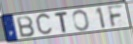1: (95, 7, 107, 30)
B: (16, 15, 36, 39)
C: (35, 12, 54, 38)
F: (107, 4, 125, 29)
O: (72, 9, 91, 32)
T: (54, 11, 69, 33)
